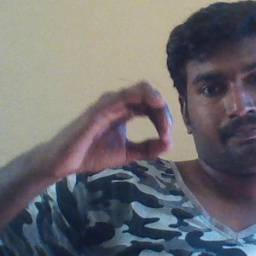O: (53, 79, 175, 175)
